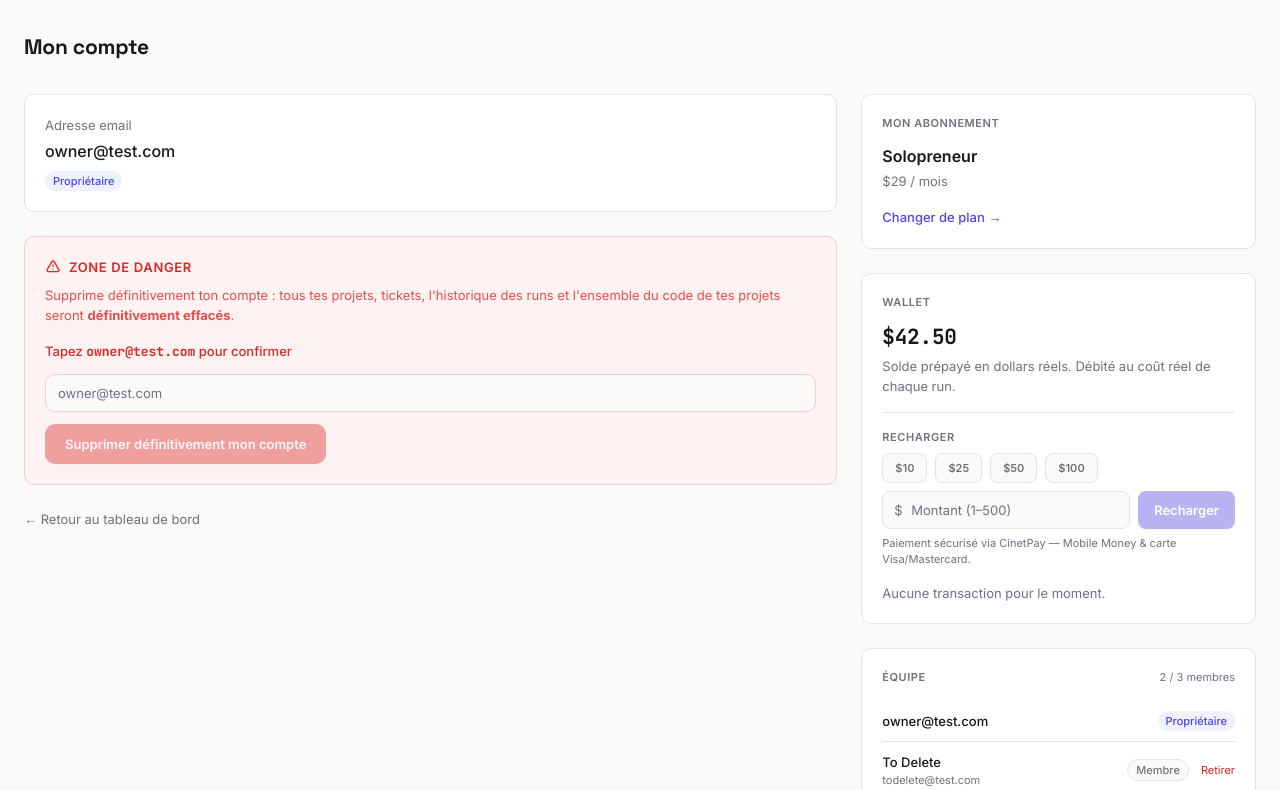
it: AccountSettingsPage — section Équipe › retire un membre avec succès
Expected: the text "To Delete" is shown, [882,754,941,770]
Click the button with aria-label "Retirer todelete@test.com" at {"x": 1218, "y": 770}, box [1201,762,1235,778]
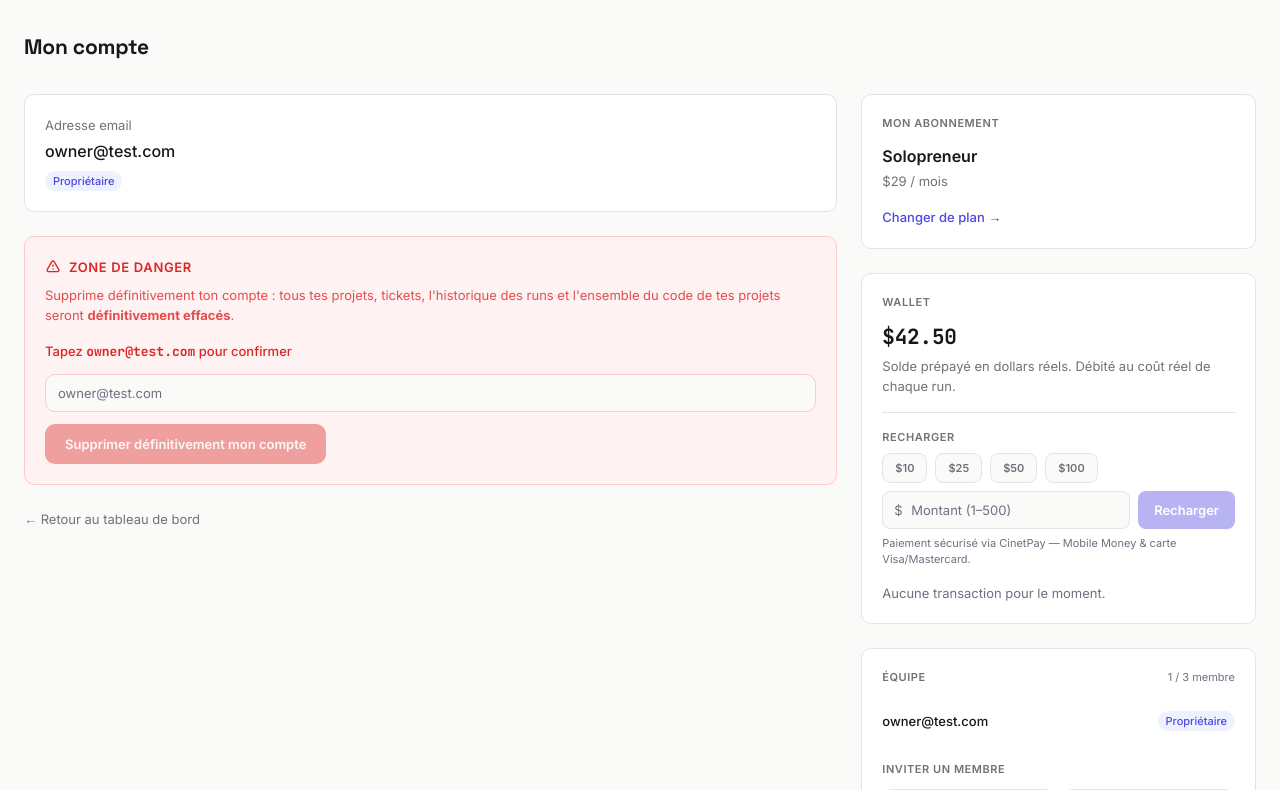
Now the text "To Delete" is gone
